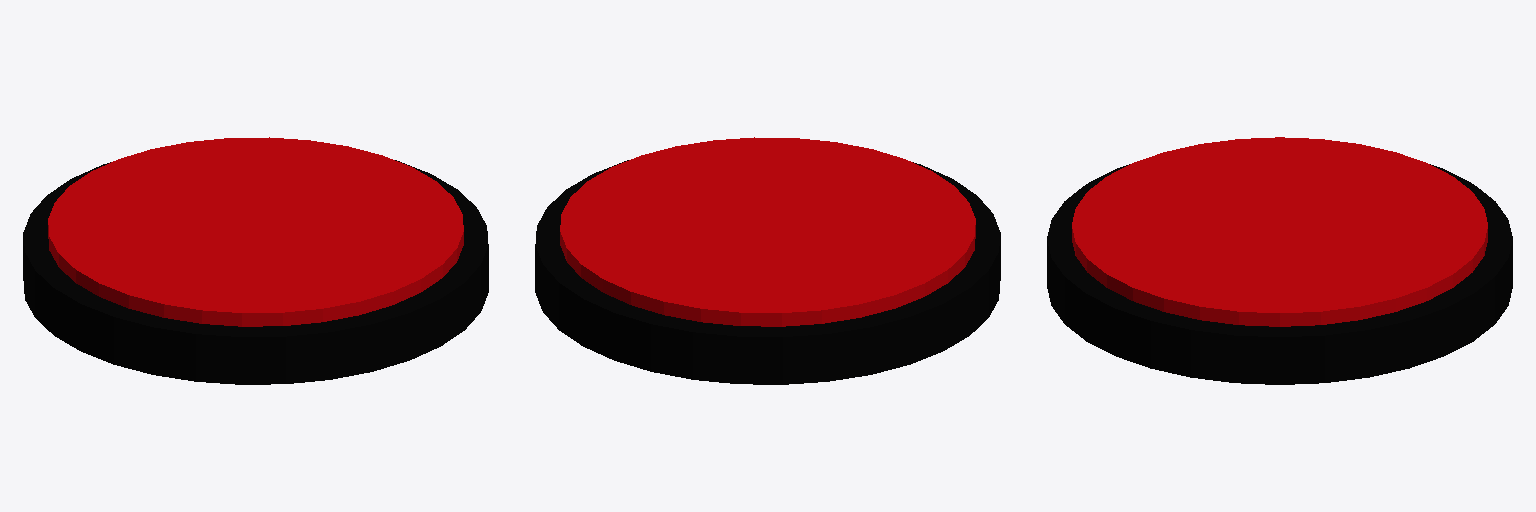
File: button.obj
3 views of the same model, side by side, from view 1: azimuth 30°, elevation 25°; view 2: azimuth 150°, elevation 25°; view 3: azimuth 270°, elevation 25° (orthographic).
Parts seen in each view (by area): view 1: Cylinder.001, Cylinder; view 2: Cylinder.001, Cylinder; view 3: Cylinder.001, Cylinder.
Part boxes in pixels (left/top/right/bottom): Cylinder.001: left=48, top=137, right=463, bottom=326; Cylinder: left=23, top=160, right=488, bottom=384; Cylinder.001: left=560, top=137, right=975, bottom=326; Cylinder: left=535, top=160, right=1000, bottom=384; Cylinder.001: left=1072, top=137, right=1487, bottom=326; Cylinder: left=1047, top=164, right=1512, bottom=384.
Bounding box in the file's own units: 7.08 × 1.03 × 7.08.